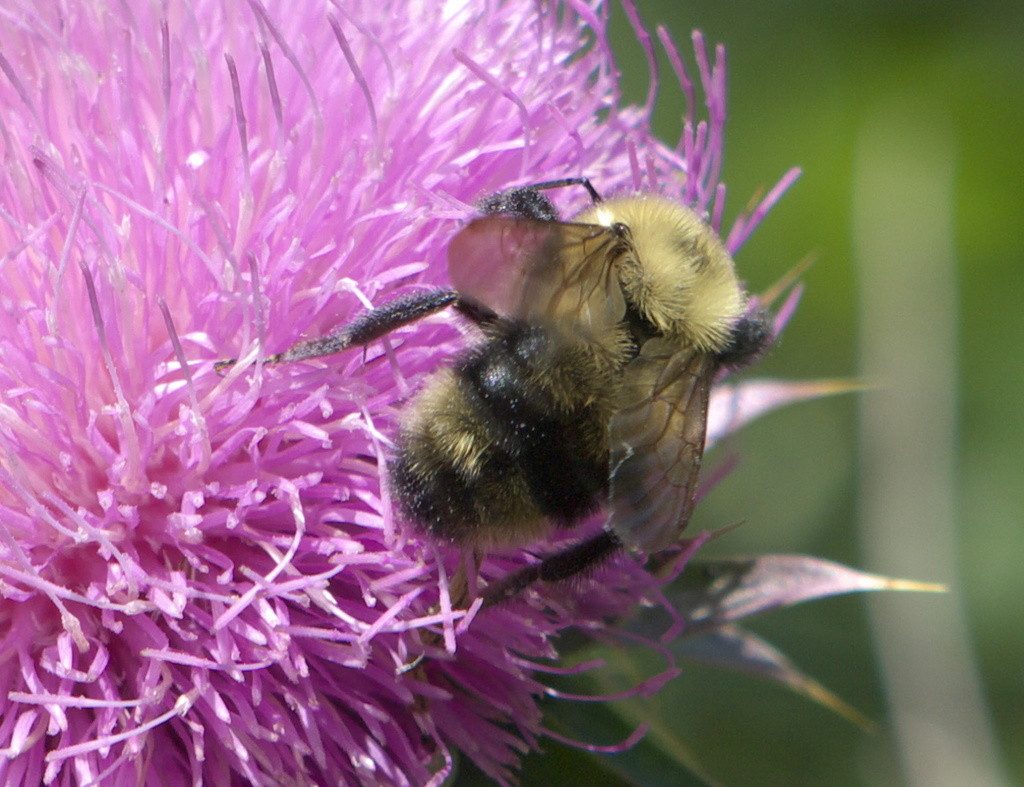bumblebee: (214, 175, 771, 611)
